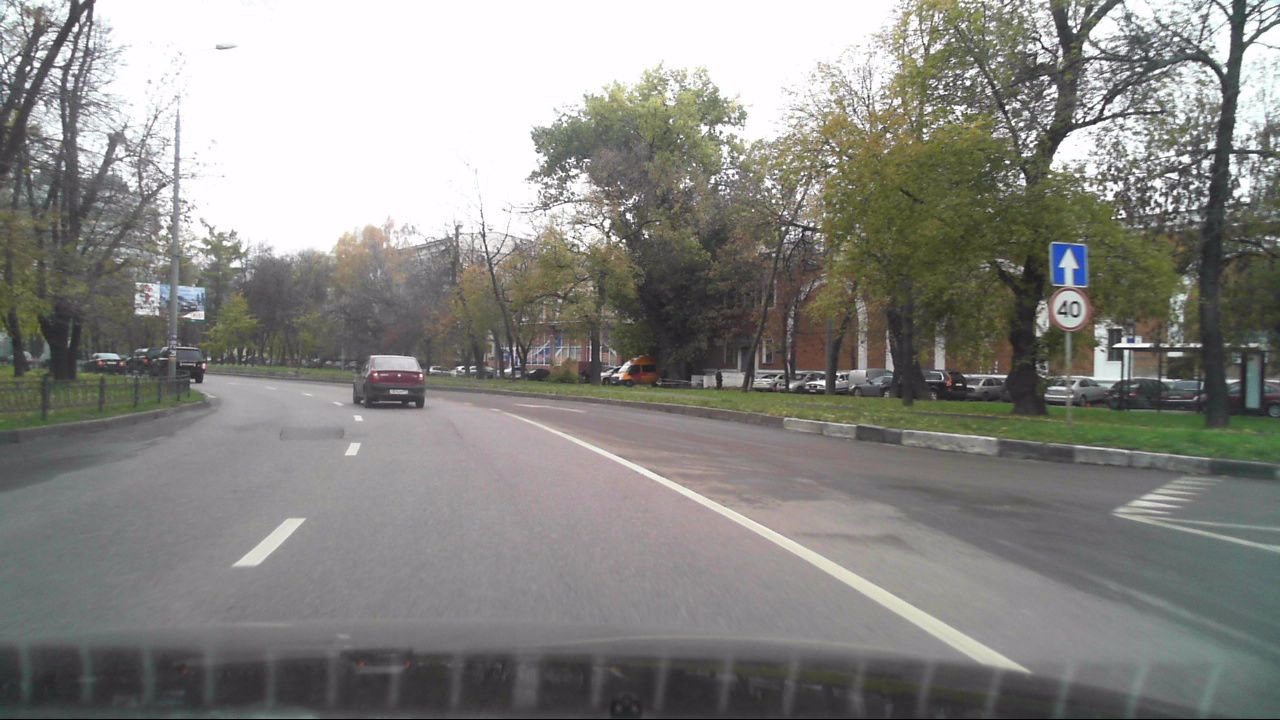speed_warning_40: (1051, 287, 1088, 333)
